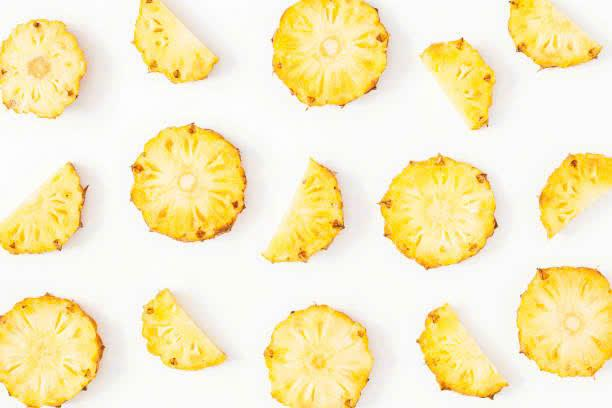pineapple: (265, 2, 420, 120), (135, 124, 271, 247), (376, 162, 513, 277), (416, 34, 539, 145), (259, 306, 391, 408), (501, 266, 607, 383), (0, 295, 112, 403), (5, 148, 96, 264), (412, 299, 511, 402), (141, 294, 245, 385), (125, 1, 222, 94), (0, 11, 85, 113), (275, 156, 345, 276), (523, 155, 612, 234), (515, 2, 605, 76)
